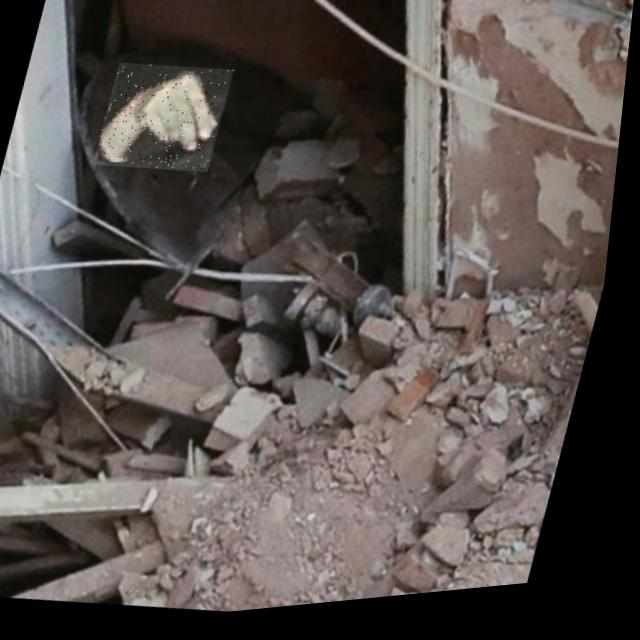Person in Rubble: (95, 57, 237, 186)
